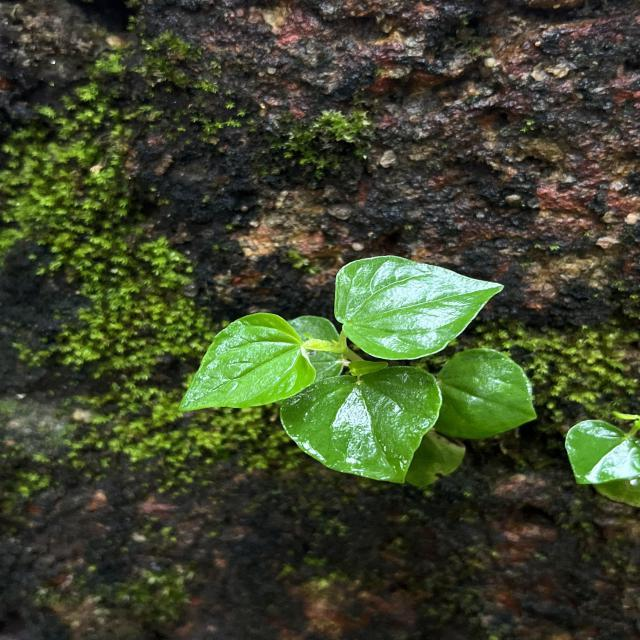Peperomia pellucida: (278, 364, 444, 484), (332, 254, 506, 362), (175, 312, 317, 414)
